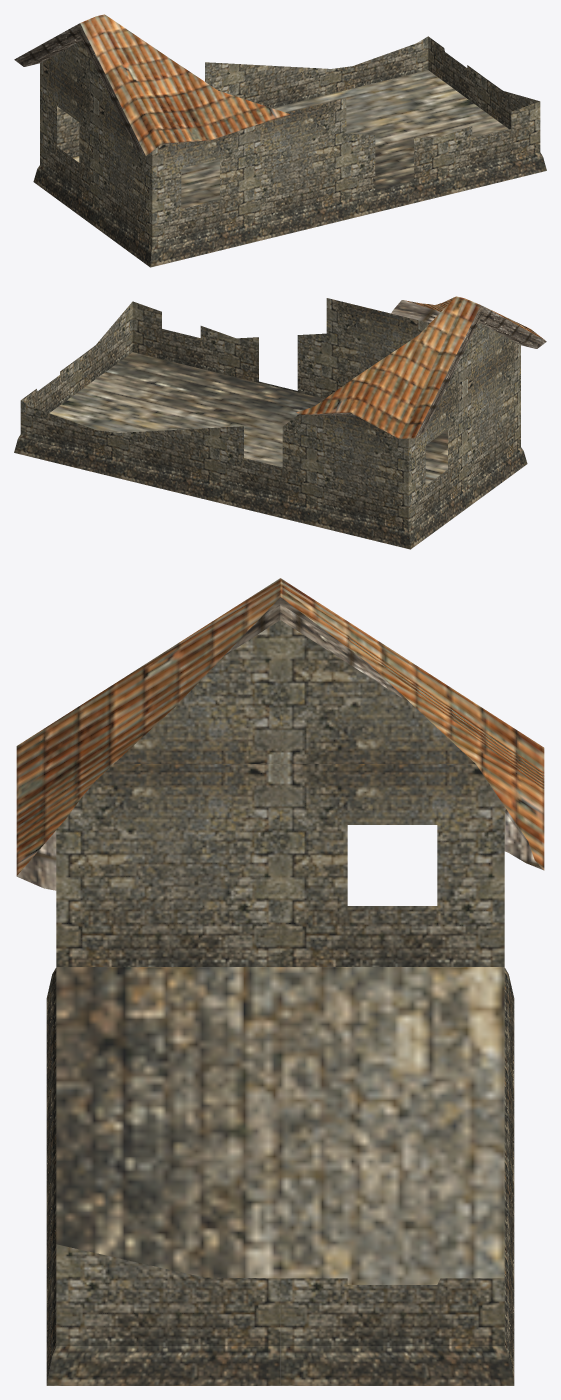
The model's file is s44_b_house_1_2_destroyed_1.dae.
3 renders of one model, top to bottom at view 1: azimuth 30°, elevation 25°; view 2: azimuth 150°, elevation 25°; view 3: azimuth 270°, elevation 25°, orthographic. The views are drawn at different scales.
Visible parts, largest first — view 1: Untitled; view 2: Untitled; view 3: Untitled.
Part boxes in pixels (left/top/right/bottom): Untitled: left=14, top=14, right=546, bottom=267; Untitled: left=14, top=296, right=546, bottom=549; Untitled: left=16, top=578, right=544, bottom=1385.
Size of the model in its own units: 101 by 56.55 by 49.04.
Materials: 1 (1 with a texture image).
